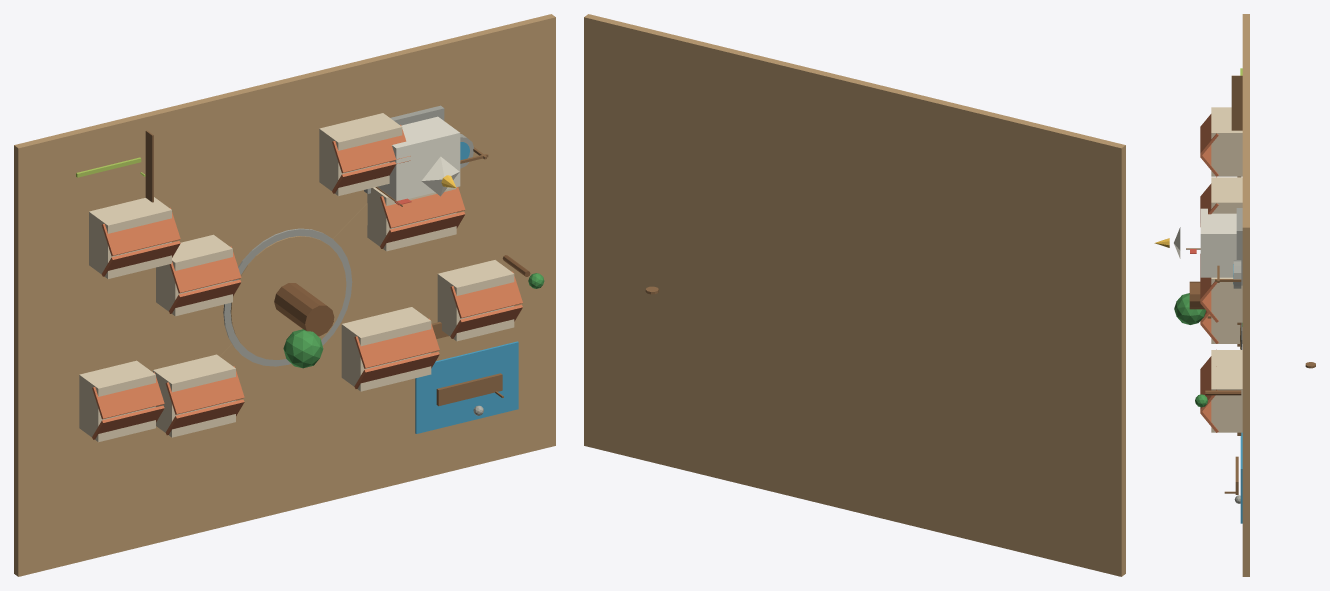
File: indian_village_low_poly.glb
3 renders of one model, left to right at view 1: azimuth 30°, elevation 25°; view 2: azimuth 150°, elevation 25°; view 3: azimuth 270°, elevation 25°, orthographic. The views are drawn at different scales.
Visible parts, largest first — view 1: Ground, PlazaInner, Pond, TempleBody, House3, House2, House7, House6, House5, House0, House1, Plaza (+22 smaller); view 2: Ground; view 3: Ground, TempleBody, House5, House2, House4, House7, Fence, House0, Canopy, House3, TempleBase, Roof21 (+6 smaller).
Part boxes in pixels (x1,y1,x2,y2): Ground: (14,14,555,576); PlazaInner: (230,236,346,359); Pond: (415,341,518,433); TempleBody: (377,116,460,200); House3: (341,307,431,391); House2: (89,197,171,278); House7: (319,113,402,195); House6: (79,360,155,442); House5: (437,260,514,341); House0: (153,354,235,437); House1: (156,234,232,316); Plaza: (223,228,352,366); Ground: (584,14,1125,576); Ground: (1242,14,1249,576); TempleBody: (1200,208,1236,277); House5: (1211,366,1242,432); House2: (1211,107,1242,176); House4: (1211,277,1242,322); House7: (1211,177,1242,213); Fence: (1231,75,1242,130); House0: (1211,322,1242,343); Canopy: (1174,293,1205,324); House3: (1211,350,1242,366); TempleBase: (1236,208,1242,285); Roof21: (1200,114,1218,154).
Bounding box in the file's own units: 42 × 32 × 13.43.
